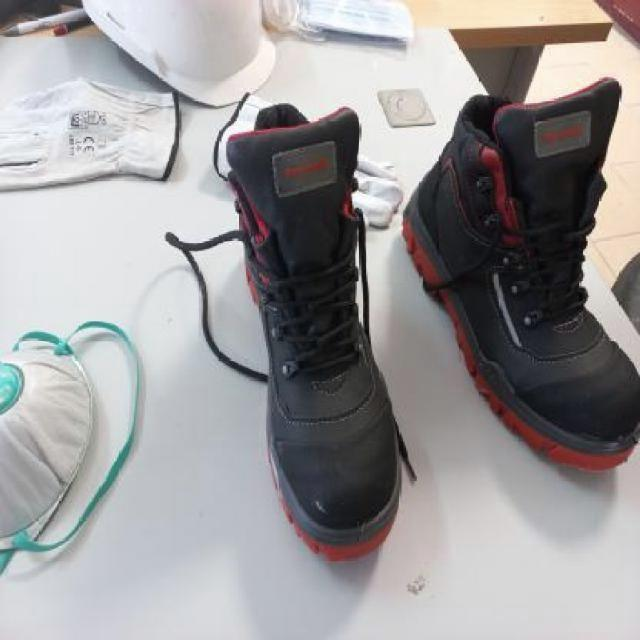helmet_white: (395, 90, 640, 474), (199, 118, 401, 560)
